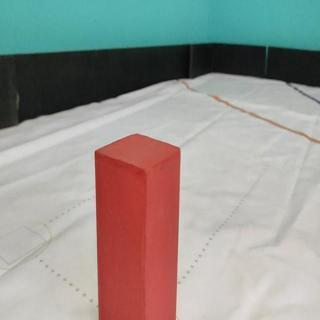redbox: (93, 133, 182, 320)
